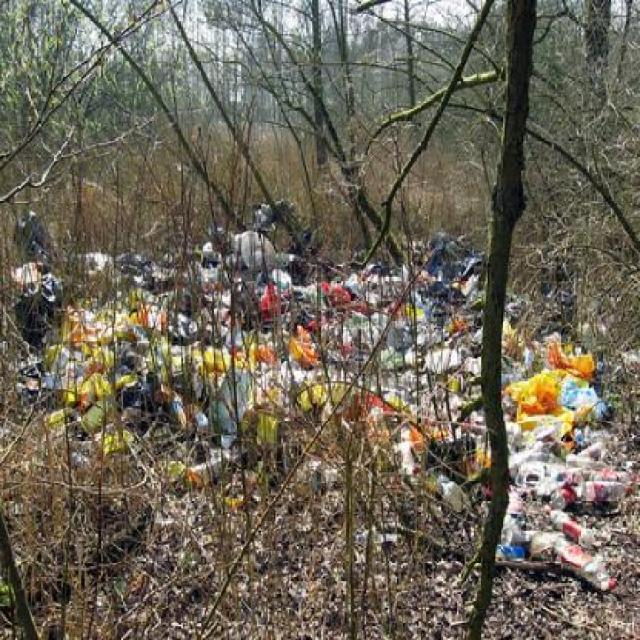garbage: (21, 223, 616, 576), (249, 183, 304, 263)
